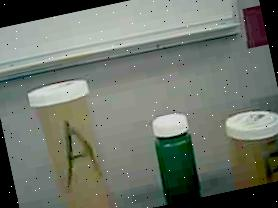Bottle A: (20, 69, 131, 208)
Bottle B: (214, 98, 278, 191)
Bottle C: (142, 101, 219, 206)
